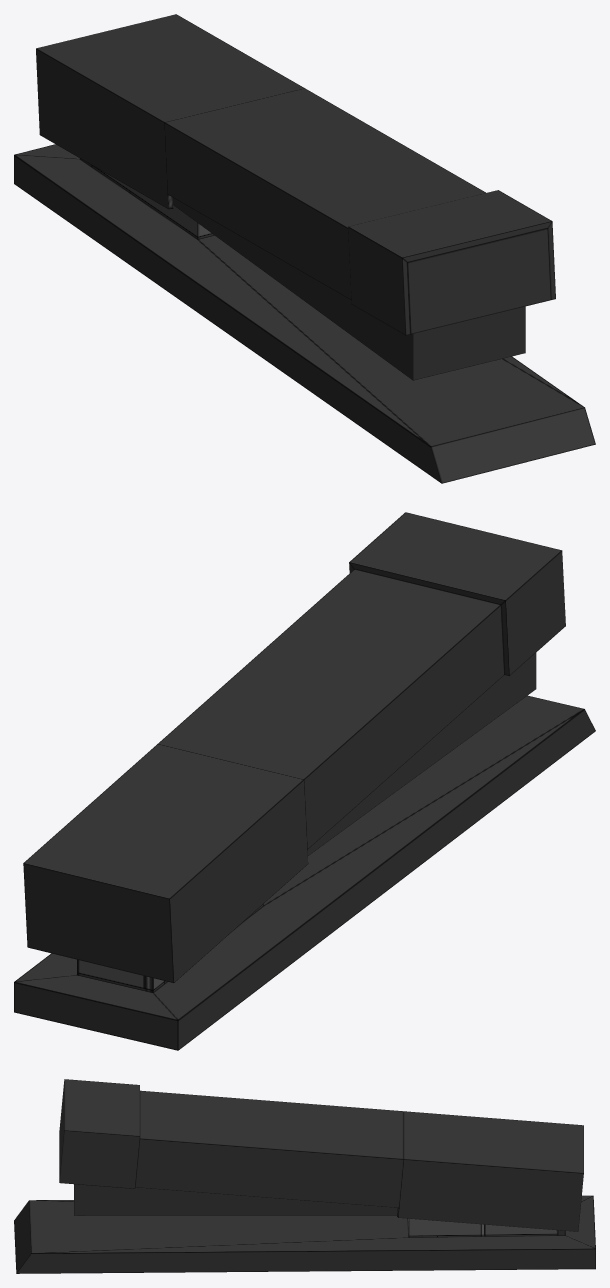
The model's file is Stapler.fbx.
3 renders of one model, top to bottom at view 1: azimuth 30°, elevation 25°; view 2: azimuth 150°, elevation 25°; view 3: azimuth 270°, elevation 25°, orthographic. The views are drawn at different scales.
Parts seen in each view (by area): view 1: Stapler Top, Stapler, Inside Section; view 2: Stapler Top, Stapler, Inside Section; view 3: Stapler Top, Stapler, Inside Section.
Boxes of the visible parts, bbox=[...] form: Stapler Top: bbox=[36, 14, 555, 335]; Stapler: bbox=[14, 144, 595, 483]; Inside Section: bbox=[172, 197, 525, 380]; Stapler Top: bbox=[23, 512, 565, 982]; Stapler: bbox=[14, 695, 595, 1050]; Inside Section: bbox=[307, 653, 536, 855]; Stapler Top: bbox=[59, 1079, 583, 1231]; Stapler: bbox=[14, 1195, 595, 1273]; Inside Section: bbox=[74, 1184, 397, 1215].
Bounding box in the file's own units: 8.89 × 10.06 × 37.81.
